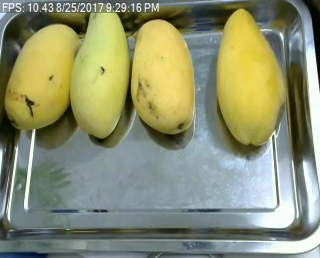Mango: (216, 10, 286, 146), (71, 2, 132, 139), (4, 23, 82, 129), (130, 20, 195, 135)
